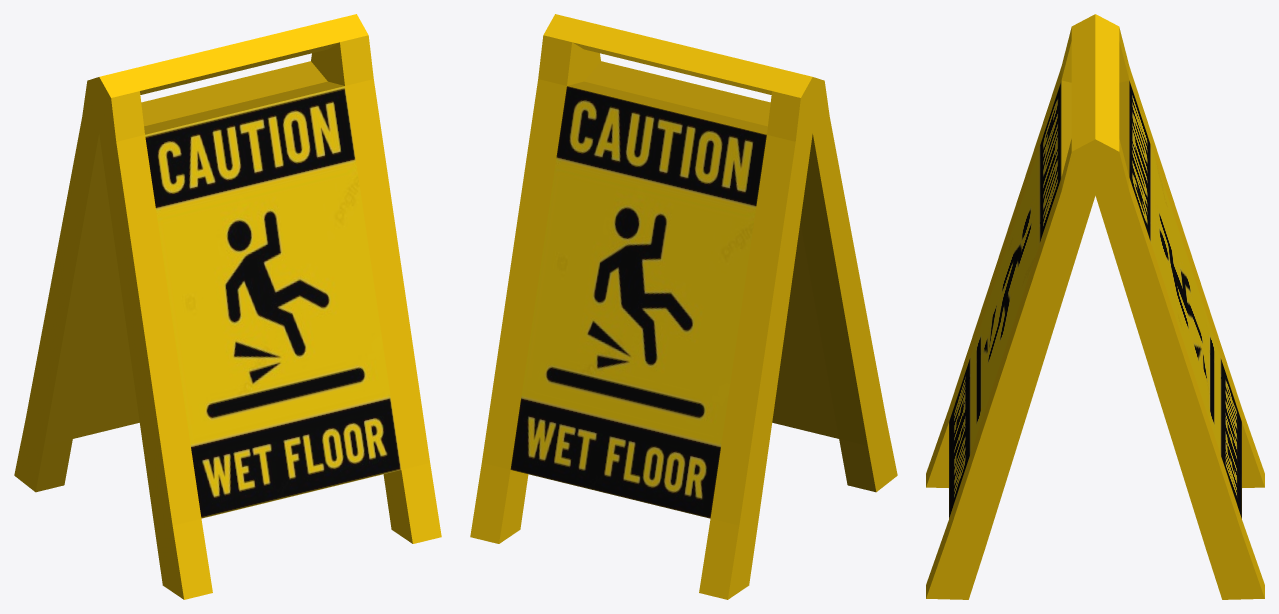
File: sign_caution.fbx
3 renders of one model, left to right at view 1: azimuth 30°, elevation 25°; view 2: azimuth 150°, elevation 25°; view 3: azimuth 270°, elevation 25°, orthographic.
Parts seen in each view (by area): view 1: mesh_Standee; view 2: mesh_Standee; view 3: mesh_Standee.
Boxes of the visible parts, x1,y1,x2,y2 form: mesh_Standee: (14, 14, 441, 599); mesh_Standee: (470, 14, 897, 599); mesh_Standee: (926, 14, 1264, 599).
Bounding box in the file's own units: 70 × 120 × 80.
3 materials, 1 textured.
